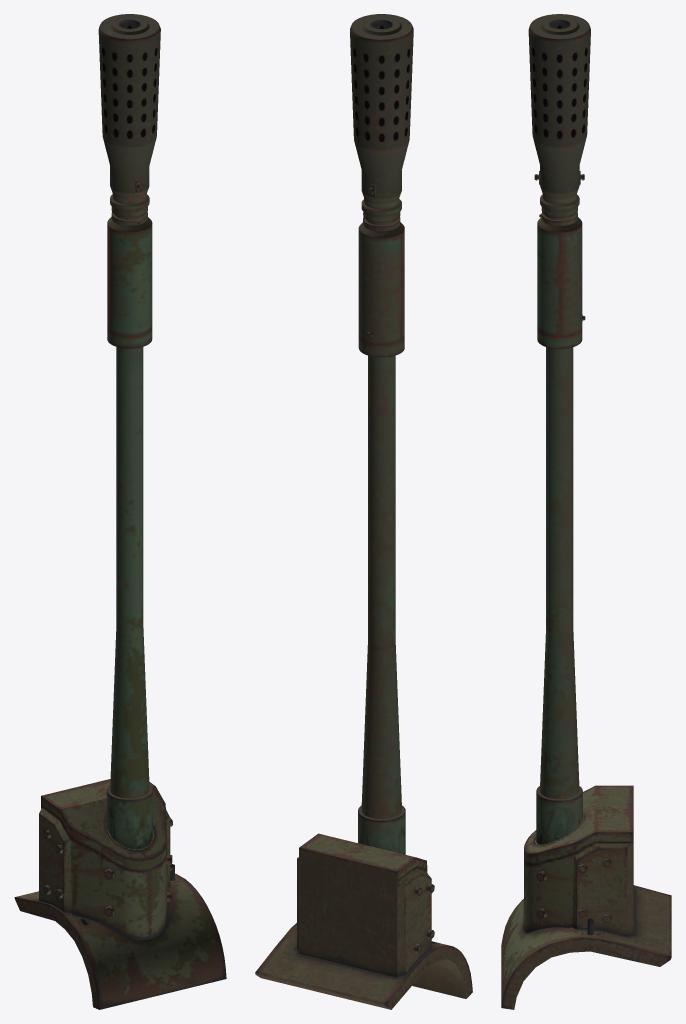
The model's file is Gun_03.glb.
3 renders of one model, left to right at view 1: azimuth 30°, elevation 25°; view 2: azimuth 150°, elevation 25°; view 3: azimuth 270°, elevation 25°, orthographic. The views are drawn at different scales.
Parts seen in each view (by area): view 1: set_0_group_0; view 2: set_0_group_0; view 3: set_0_group_0.
Boxes of the visible parts, <box> form: set_0_group_0: <box>14,14,226,1009</box>; set_0_group_0: <box>255,14,472,1009</box>; set_0_group_0: <box>501,14,671,1009</box>.
Size of the model in its own units: 0.5513 by 3.9 by 0.6326.
Materials: 1 (1 with a texture image).
